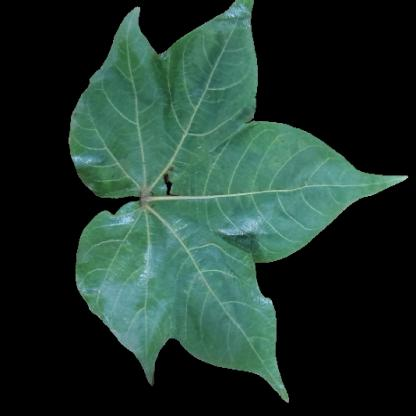healthy: (116, 49, 253, 188), (139, 209, 236, 317), (256, 127, 317, 236), (88, 227, 135, 313), (201, 315, 271, 355)
